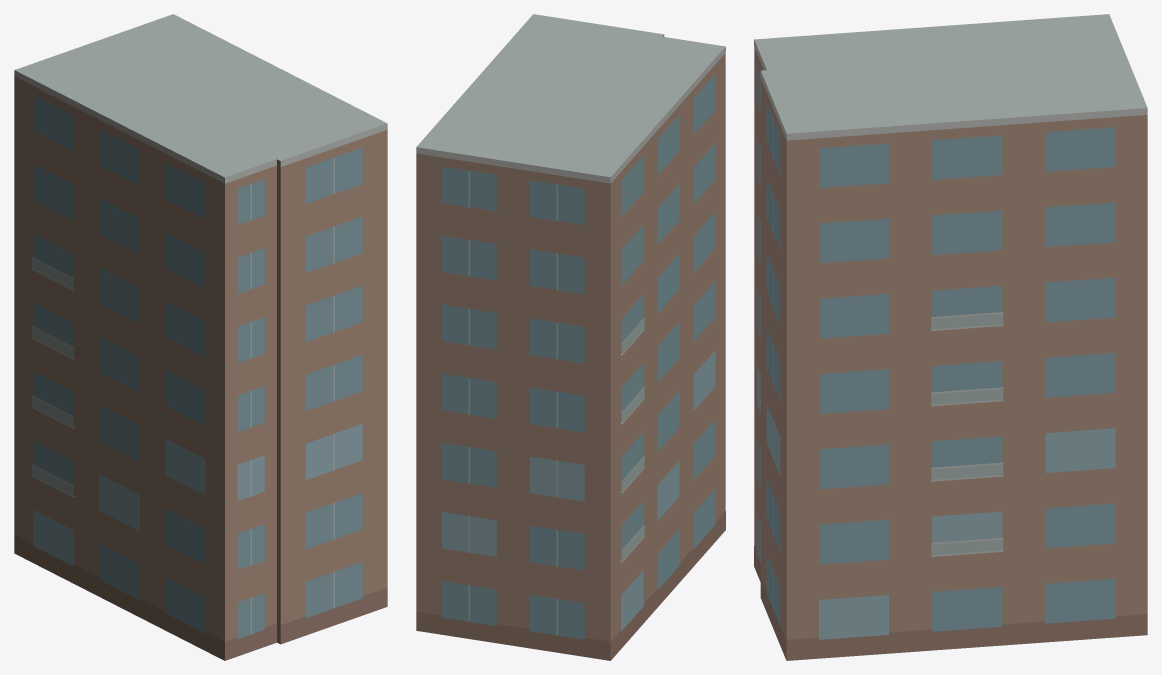
The model's file is survey-upis-32714465.glb.
The picture shows the model from 3 angles, left to right: view 1: azimuth 30°, elevation 25°; view 2: azimuth 150°, elevation 25°; view 3: azimuth 270°, elevation 25°; orthographic projection. The views are drawn at different scales.
Visible parts, largest first — view 1: survey-upis-32714465.tmp; view 2: survey-upis-32714465.tmp; view 3: survey-upis-32714465.tmp.
Part boxes in pixels (bbox=[...]): survey-upis-32714465.tmp: bbox=[14, 14, 387, 660]; survey-upis-32714465.tmp: bbox=[416, 14, 725, 660]; survey-upis-32714465.tmp: bbox=[754, 14, 1147, 660].
Bounding box in the file's own units: 9.23 × 18.9 × 12.8.
